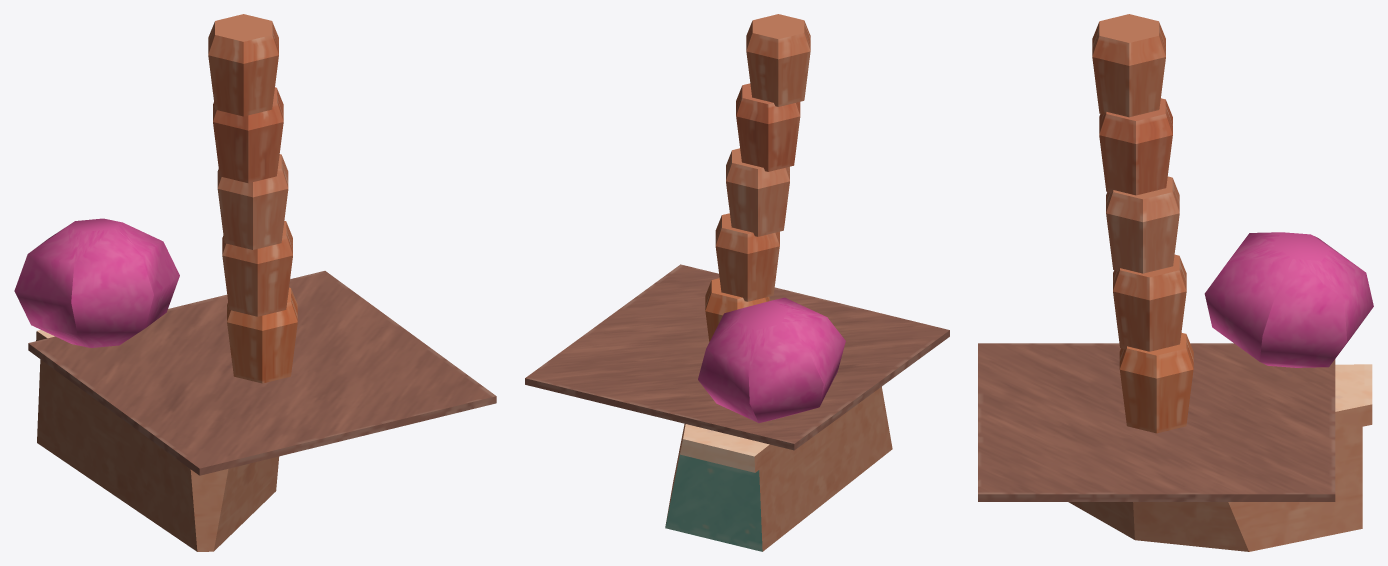
Rendered from palm_bed_s07.fbx.
3 views of the same model, side by side, from view 1: azimuth 30°, elevation 25°; view 2: azimuth 150°, elevation 25°; view 3: azimuth 270°, elevation 25° (orthographic). The views are drawn at different scales.
Parts seen in each view (by area): view 1: palm_bed_s07; view 2: palm_bed_s07; view 3: palm_bed_s07.
Boxes of the visible parts, x1,y1,x2,y2 form: palm_bed_s07: [14, 14, 496, 551]; palm_bed_s07: [525, 14, 949, 551]; palm_bed_s07: [978, 14, 1373, 551].
Size of the model in its own units: 5.6 by 7.93 by 5.76.
